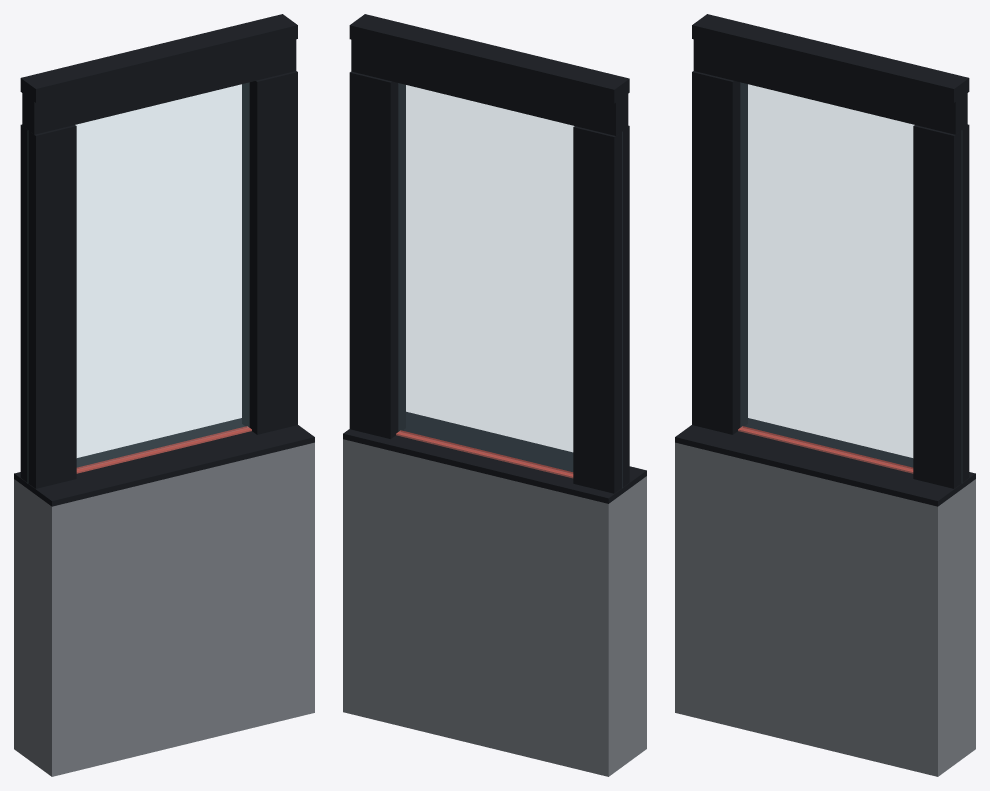
The model's file is psd-end.glb.
3 views of the same model, side by side, from view 1: azimuth 30°, elevation 25°; view 2: azimuth 150°, elevation 25°; view 3: azimuth 330°, elevation 25° (orthographic).
Visible parts, largest first — view 1: psd-concrete-foundation, psd-fixed-glass, psd-section-pillar (×2), psd-fixed-rail, psd-threshold, psd-fixed-cap, PsdEnd; view 2: psd-concrete-foundation, psd-fixed-glass, psd-section-pillar (×2), psd-fixed-rail, psd-fixed-cap, psd-threshold, PsdEnd; view 3: psd-concrete-foundation, psd-fixed-glass, psd-section-pillar (×2), psd-fixed-rail, psd-threshold, psd-fixed-cap, PsdEnd.
Boxes of the visible parts, left/top/right/bottom form: psd-concrete-foundation: left=14, top=442, right=314, bottom=776; psd-fixed-glass: left=76, top=83, right=249, bottom=469; psd-section-pillar (×2): left=20, top=71, right=297, bottom=488; psd-fixed-rail: left=22, top=39, right=296, bottom=134; psd-threshold: left=14, top=418, right=314, bottom=506; psd-fixed-cap: left=20, top=14, right=297, bottom=102; PsdEnd: left=76, top=426, right=251, bottom=473; psd-concrete-foundation: left=343, top=439, right=646, bottom=776; psd-fixed-glass: left=398, top=83, right=622, bottom=487; psd-section-pillar (×2): left=349, top=71, right=629, bottom=493; psd-fixed-rail: left=351, top=39, right=628, bottom=135; psd-fixed-cap: left=349, top=14, right=629, bottom=103; psd-threshold: left=343, top=411, right=646, bottom=503; PsdEnd: left=396, top=430, right=573, bottom=478; psd-concrete-foundation: left=675, top=442, right=975, bottom=776; psd-fixed-glass: left=740, top=83, right=913, bottom=469; psd-section-pillar (×2): left=692, top=71, right=969, bottom=488; psd-fixed-rail: left=693, top=39, right=967, bottom=134; psd-threshold: left=675, top=418, right=975, bottom=506; psd-fixed-cap: left=692, top=14, right=969, bottom=102; PsdEnd: left=738, top=426, right=913, bottom=473.
Bounding box in the file's own units: 1 × 2.45 × 0.2487.
